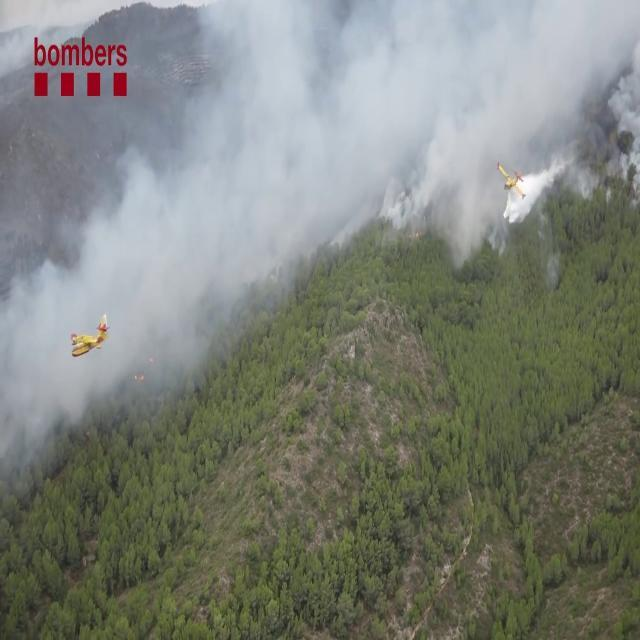Smoke: (80, 0, 632, 381)
